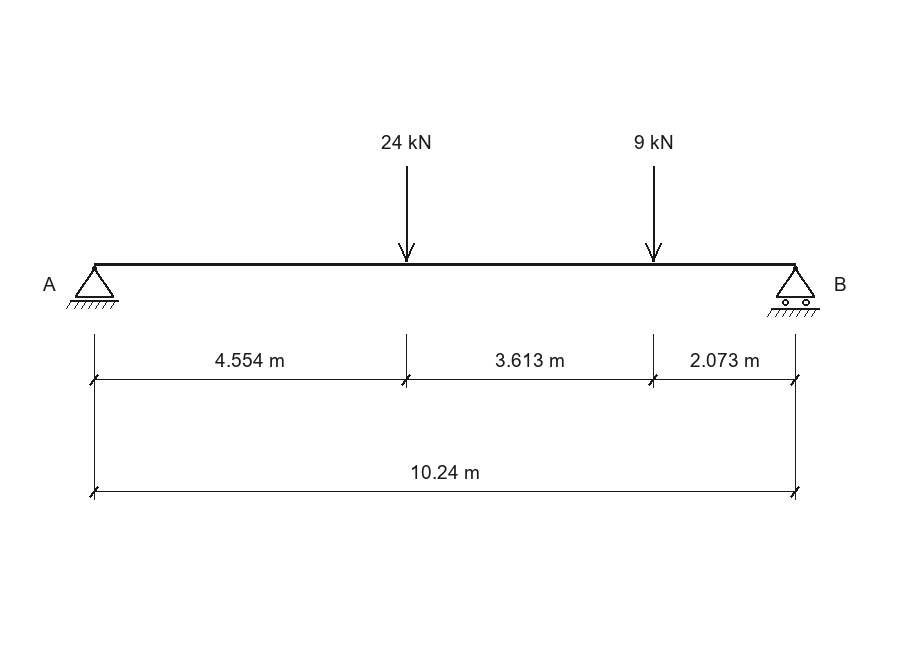pin_support: (66, 266, 119, 309)
point_load: (398, 166, 415, 262), (645, 166, 662, 262)
roller_support: (767, 266, 820, 317)
